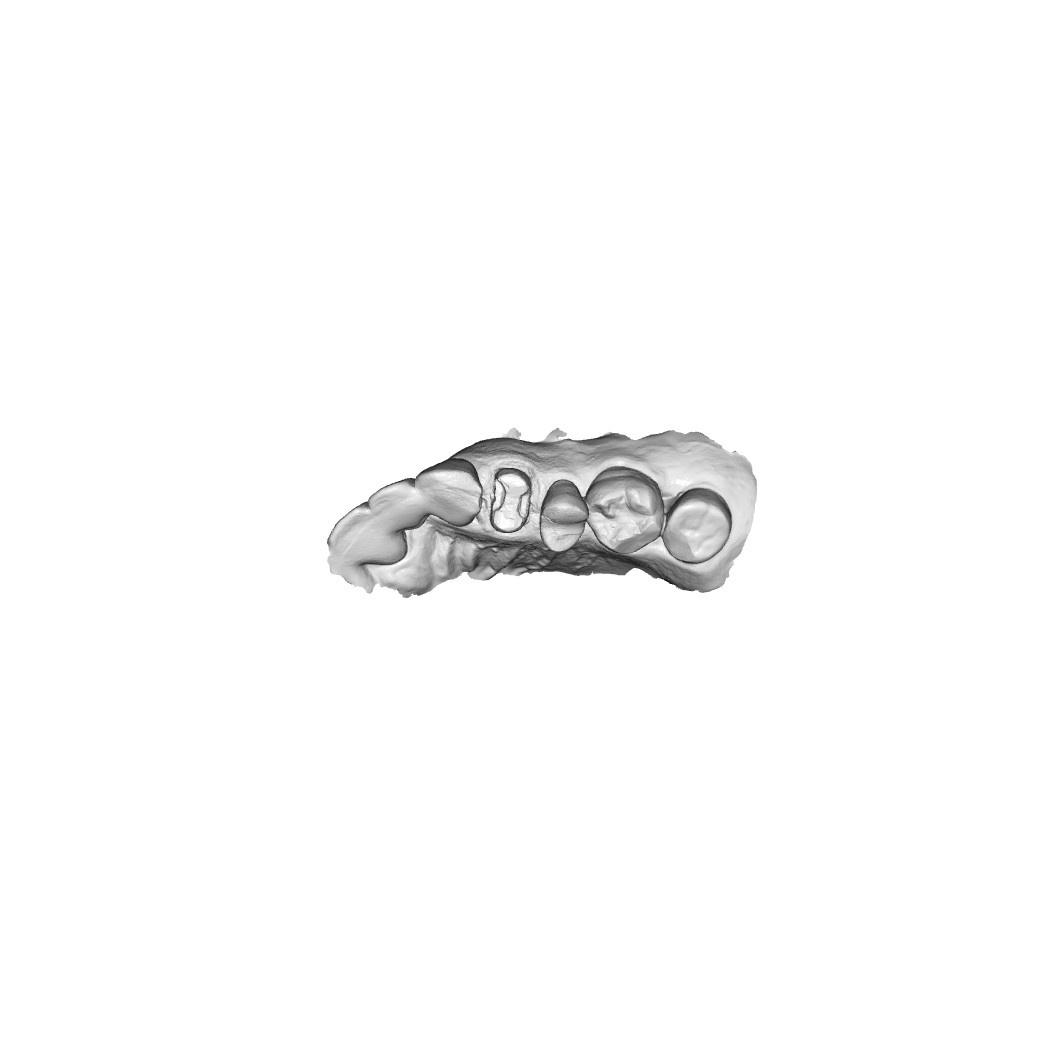canine: (415, 457, 483, 527)
crown: (486, 465, 538, 535)
incisor: (327, 501, 406, 565), (365, 479, 419, 531)
molar: (589, 468, 666, 556), (658, 486, 732, 566)
premolar: (538, 478, 588, 555)
